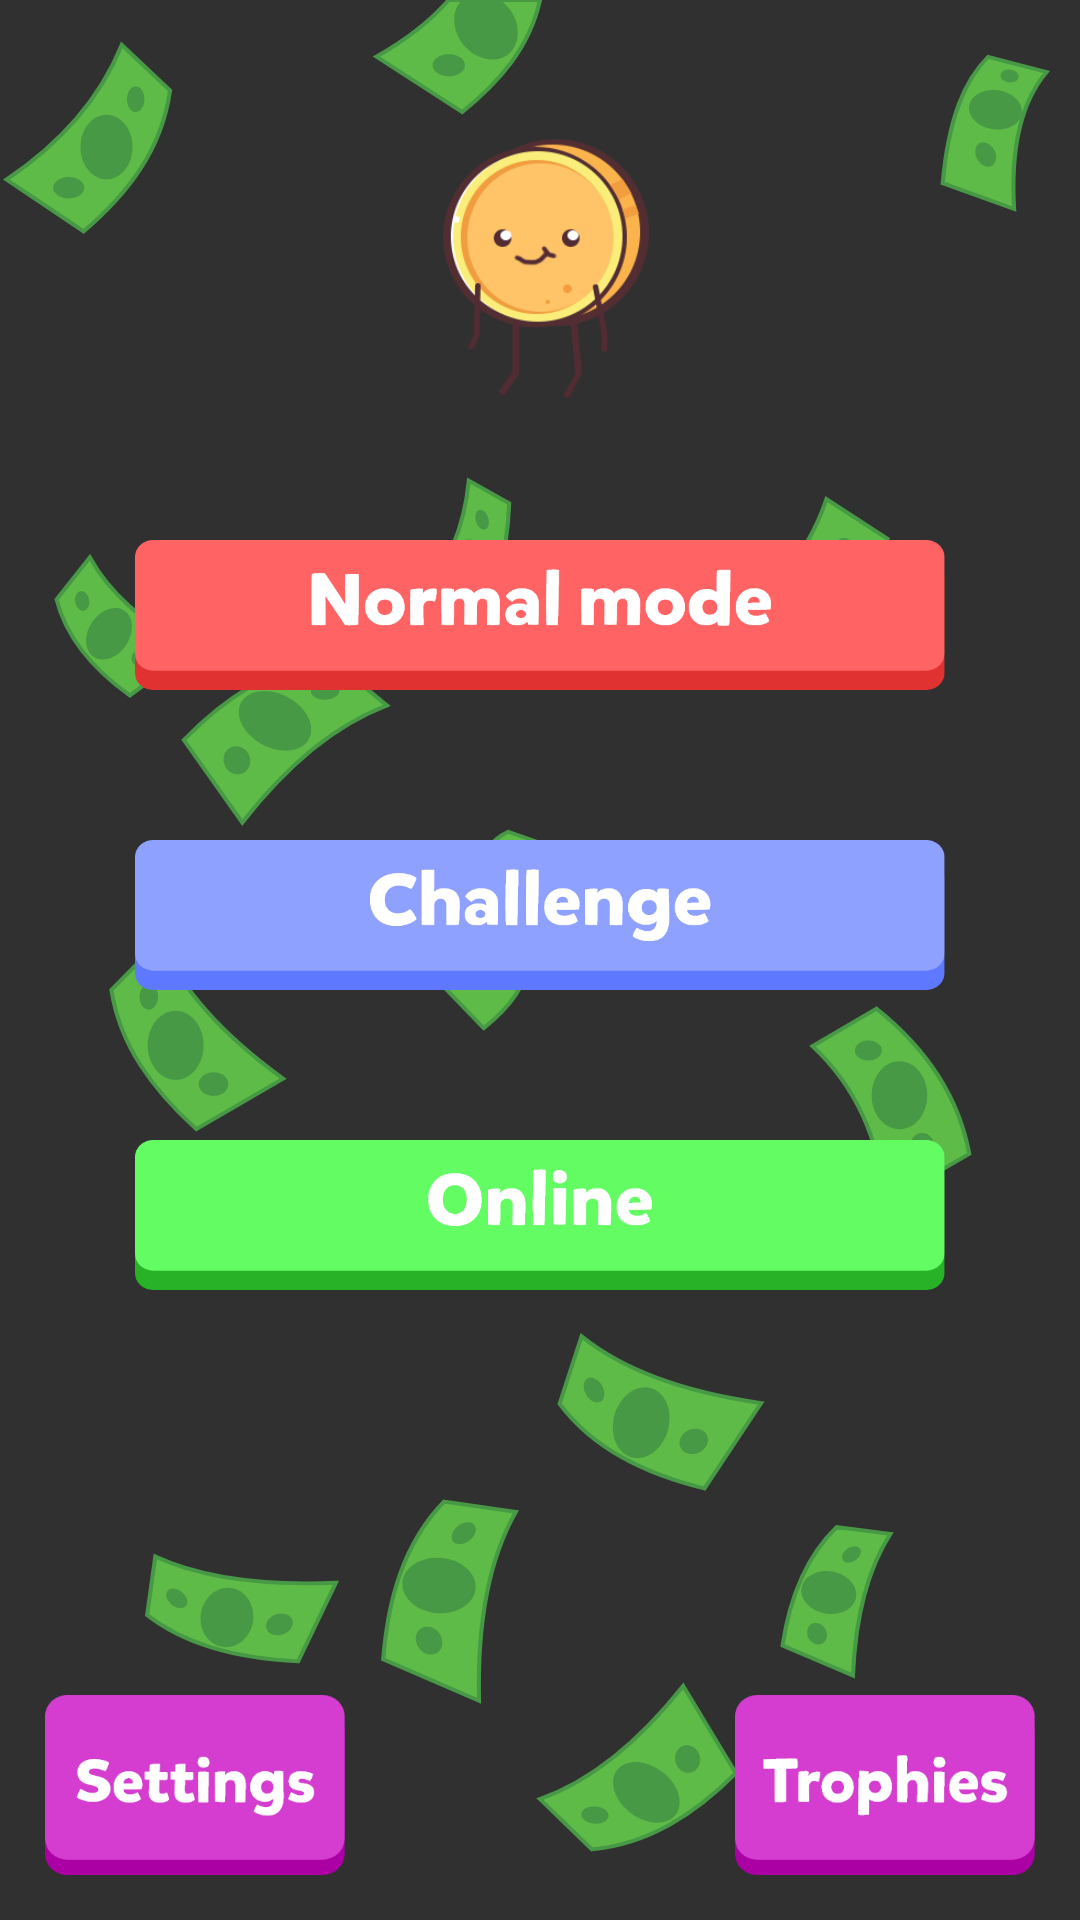

Screen size 1080 x 1920. Icon name, then its box in pixels as (x1, y1, x2, y2):
happycoin: (443, 139, 649, 397)
